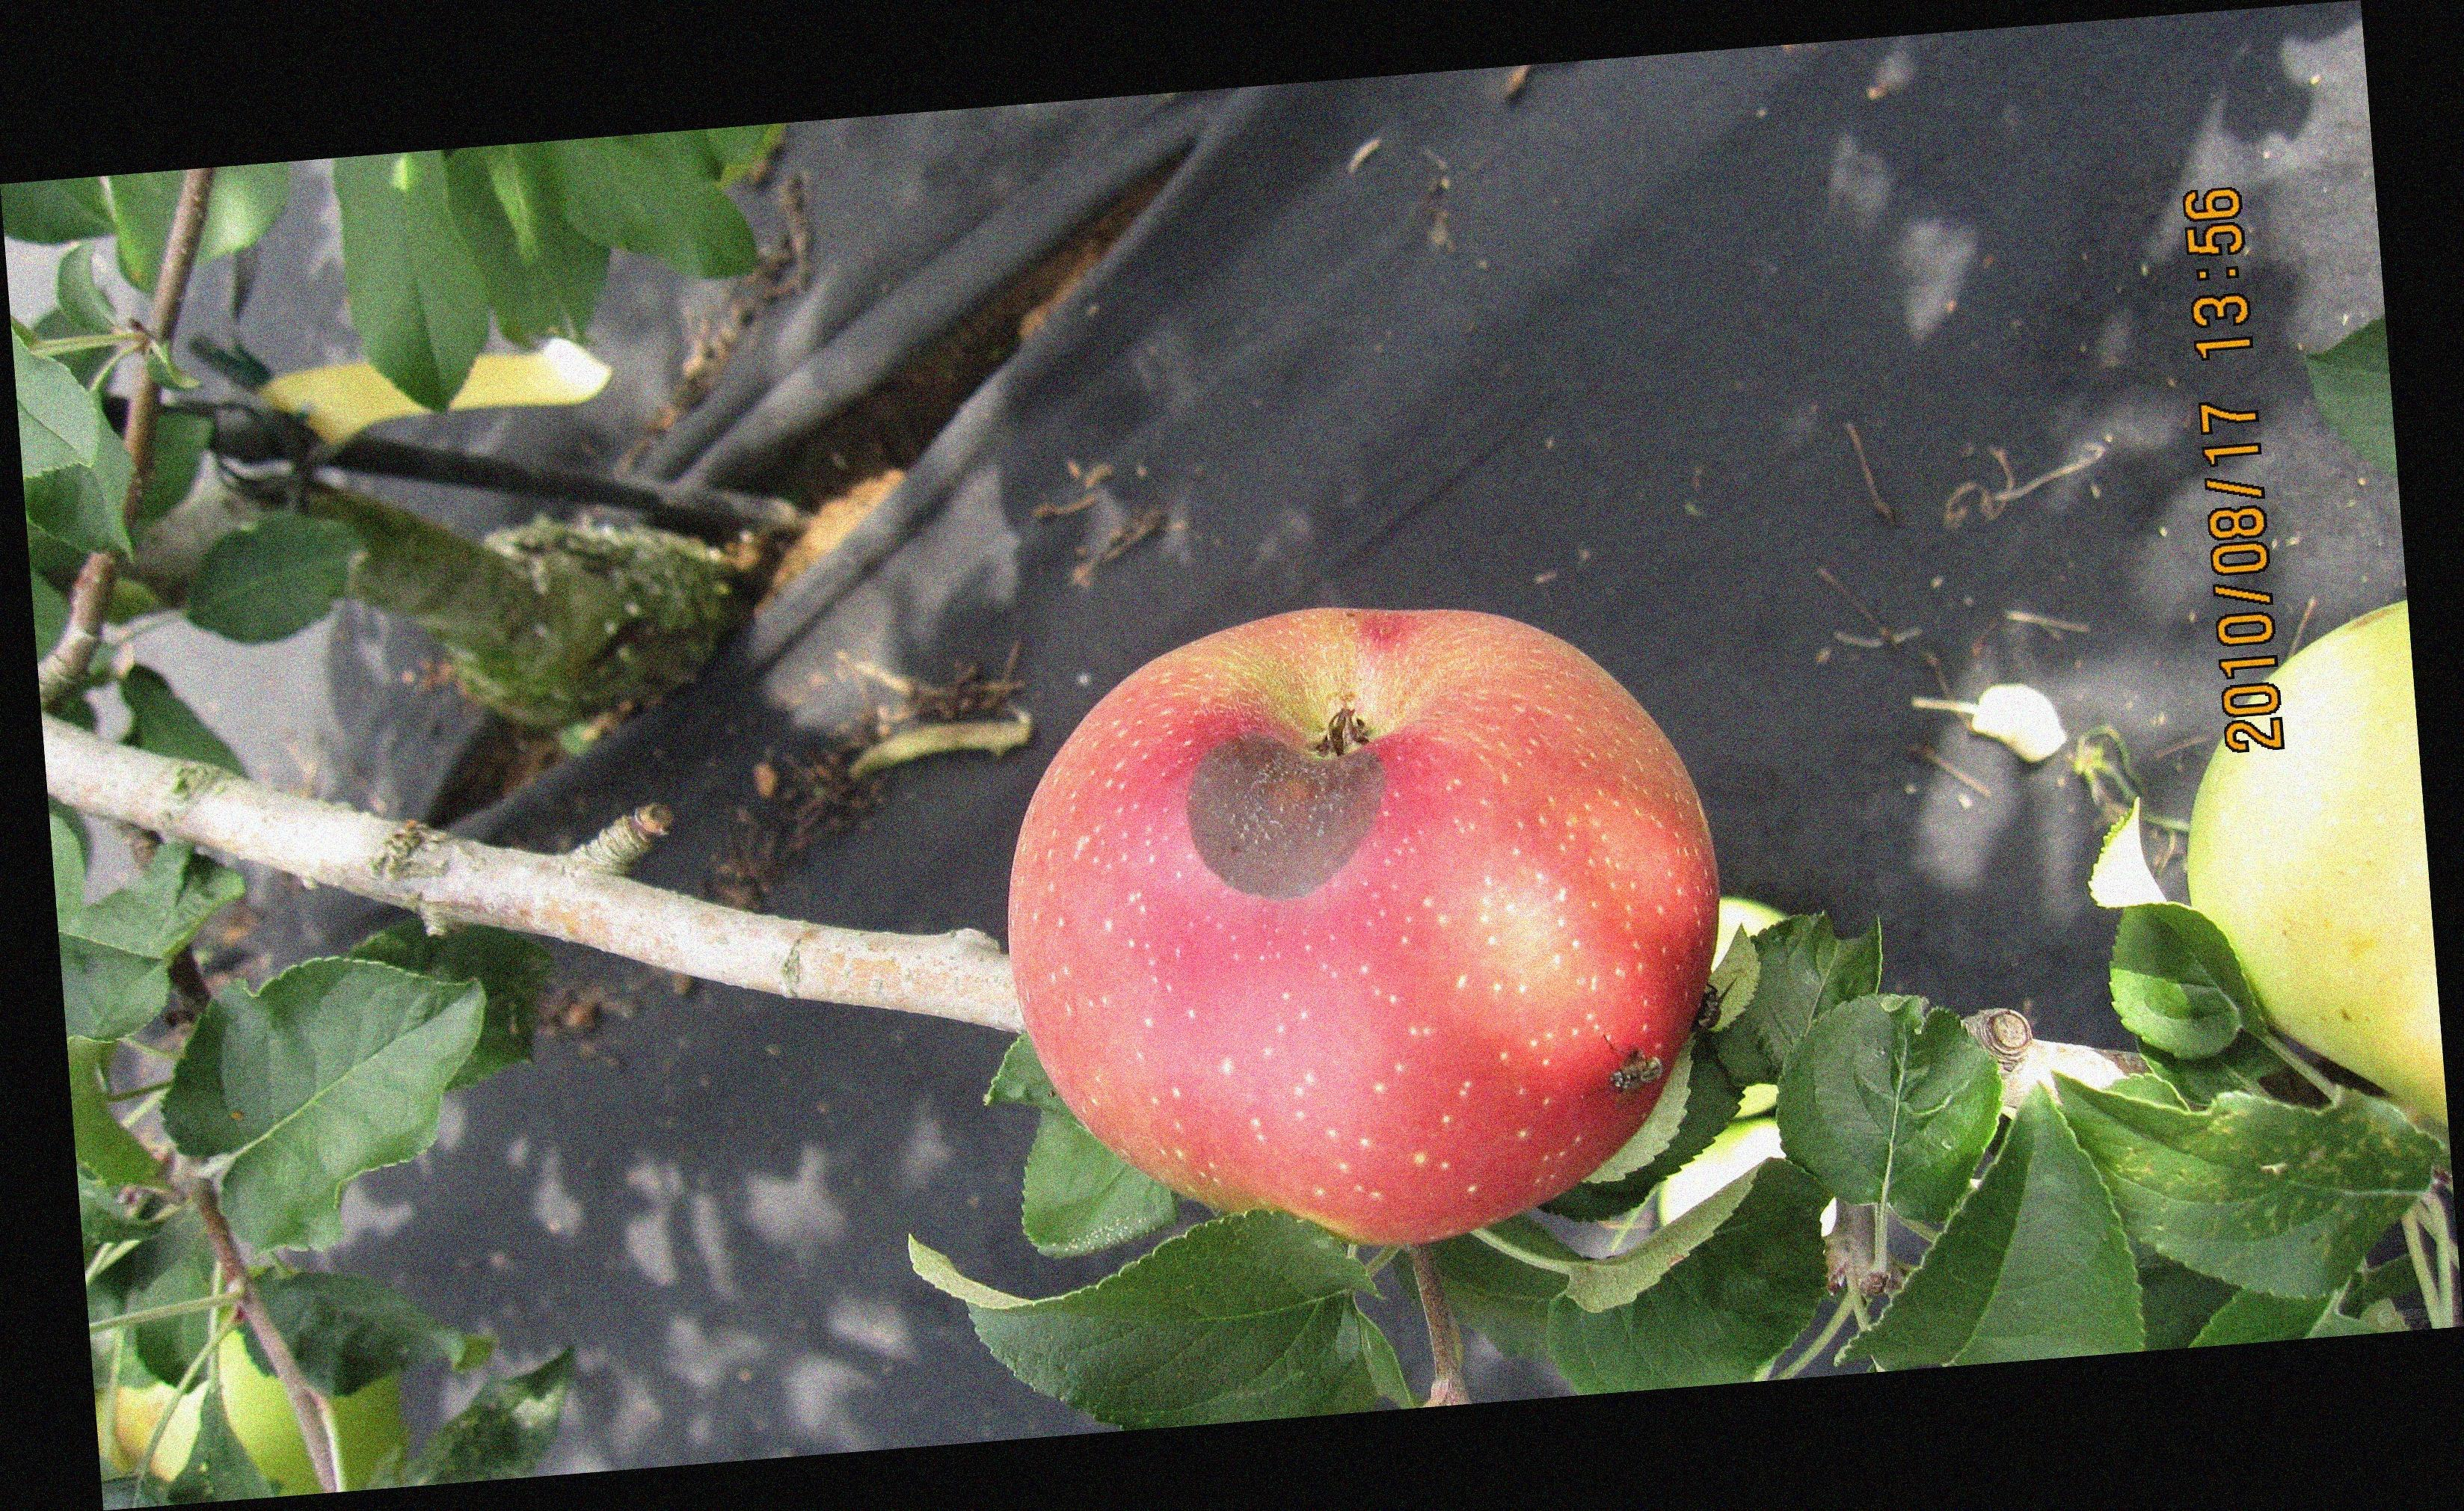rotten apple: (998, 595, 1744, 1247)
